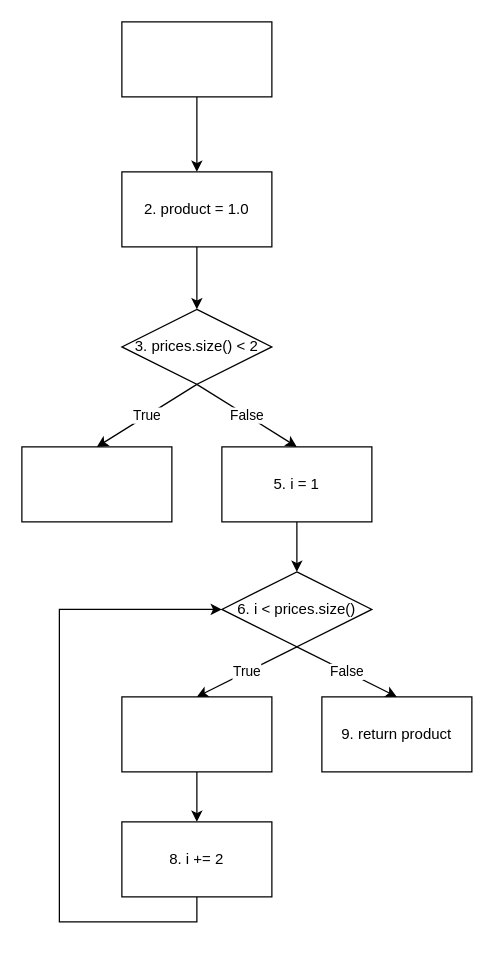
Image size: 494x954. Some labels were removed from this diagram. Each missing label, with the centre of its shape:
1. Entry: the point at 196,59
4. return 1.0: the point at 96,484
7. product *= prices[i]: the point at 196,734
